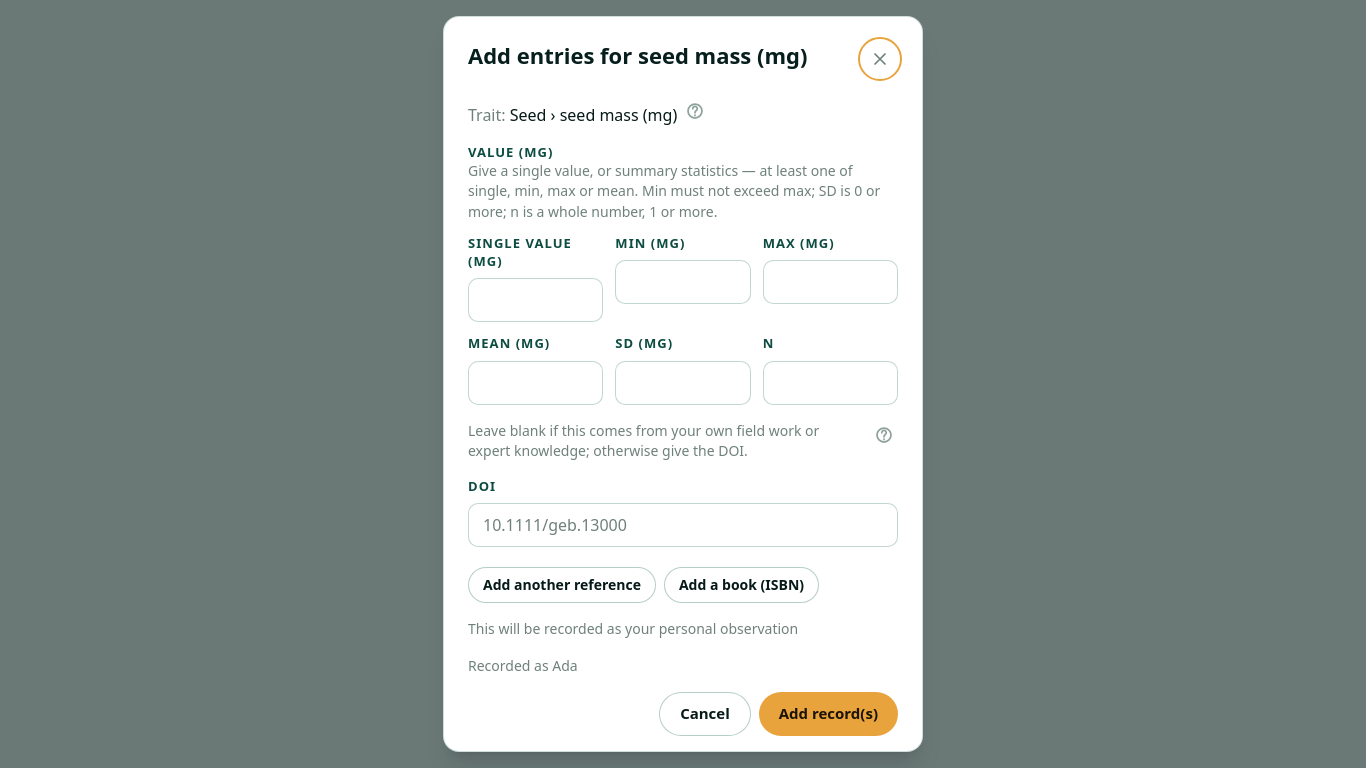
it: RFC-70 R1 AddEntriesDialog submission › RFC-13 R6 asks for one of single, min, max or mean before sending a quantitative claim
Expected: the button "Add record(s)" is enabled, x1=759 y1=692 x2=898 y2=736
Type "1" into the number field labelled "SD (mg)". click: (683, 383)
box: x1=615 y1=361 x2=751 y2=405
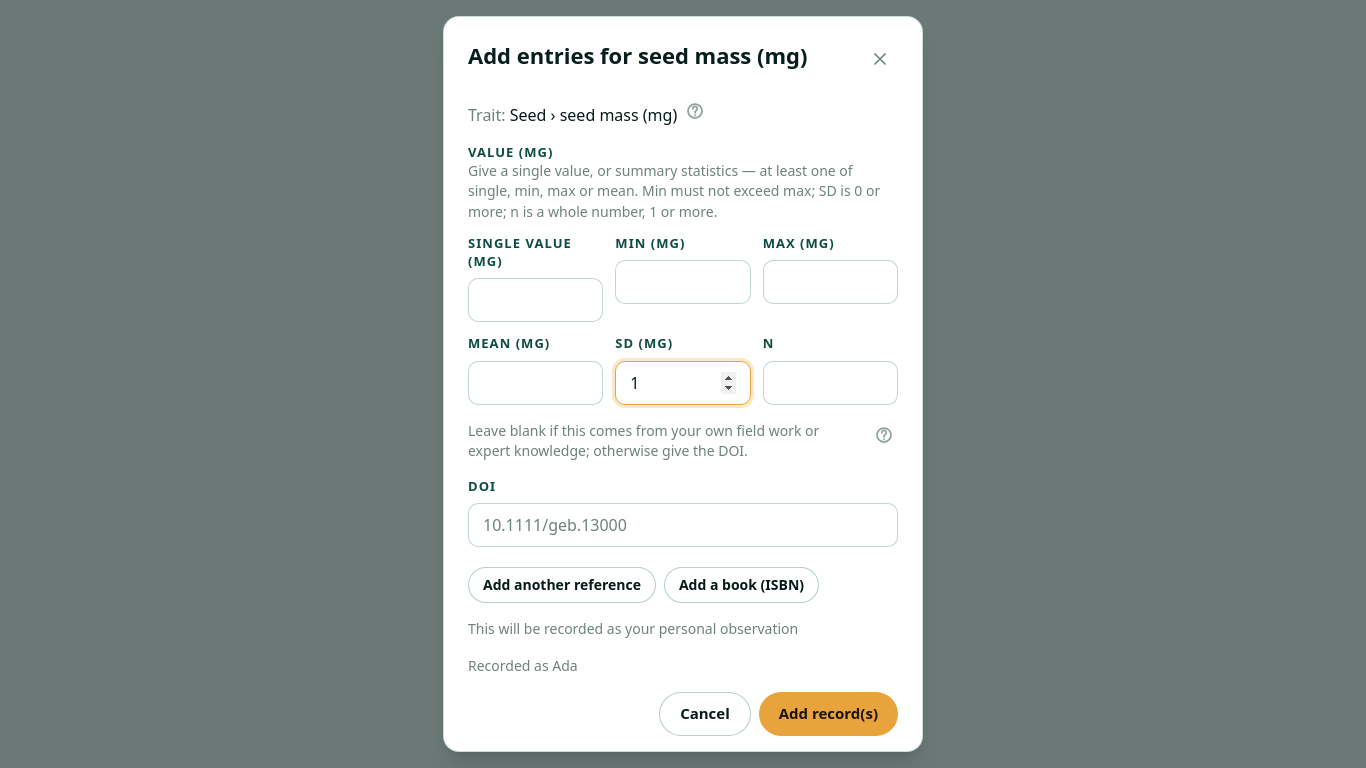
Click the button "Add record(s)". click: (828, 714)
box: x1=759 y1=692 x2=898 y2=736
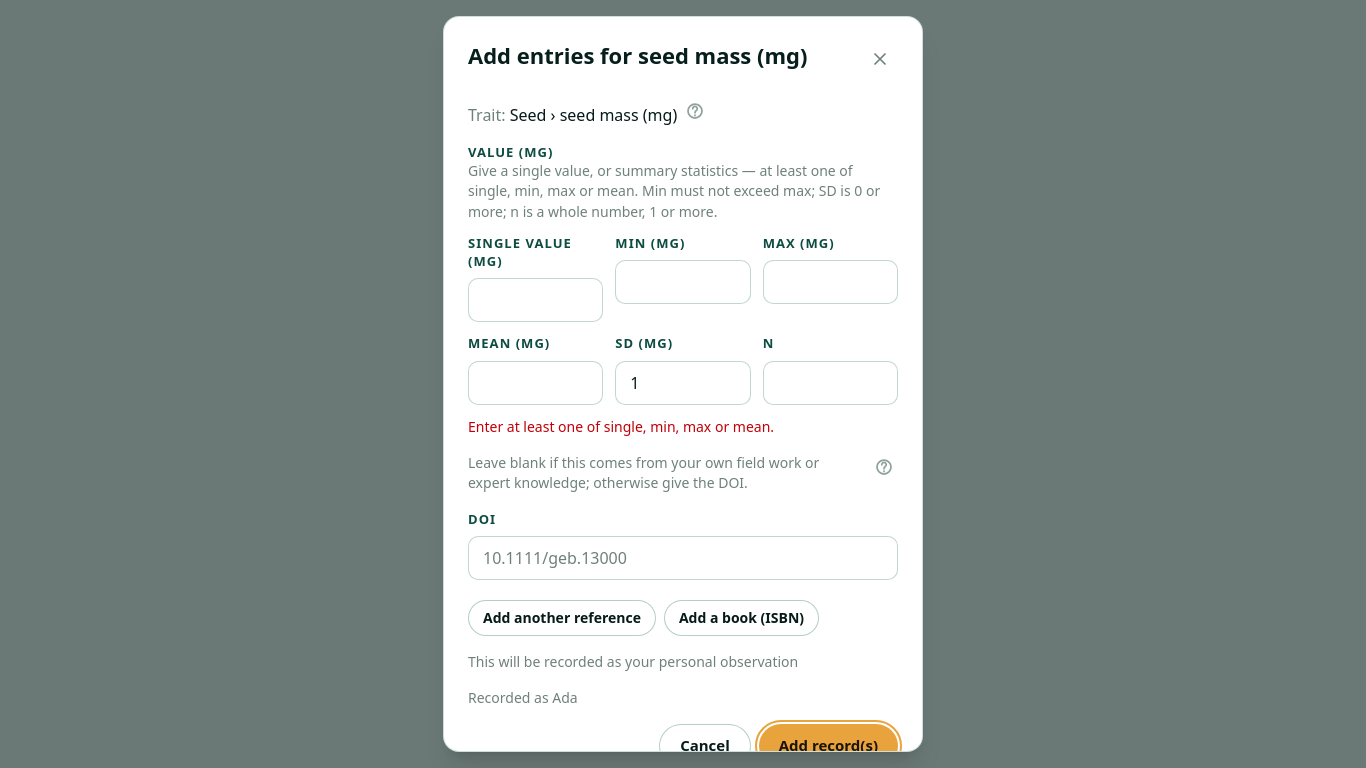
Now the text "Enter at least one of single, min, max or mean." is shown, box x1=468 y1=417 x2=774 y2=436
